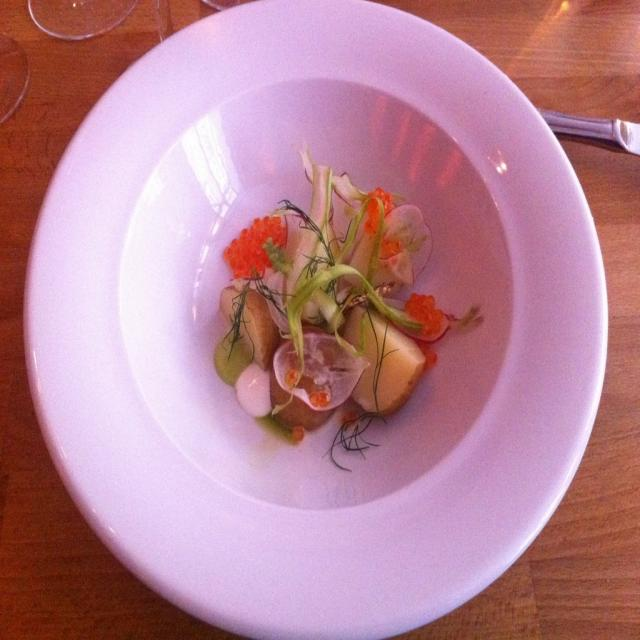non-organic waste: (32, 5, 606, 640)
